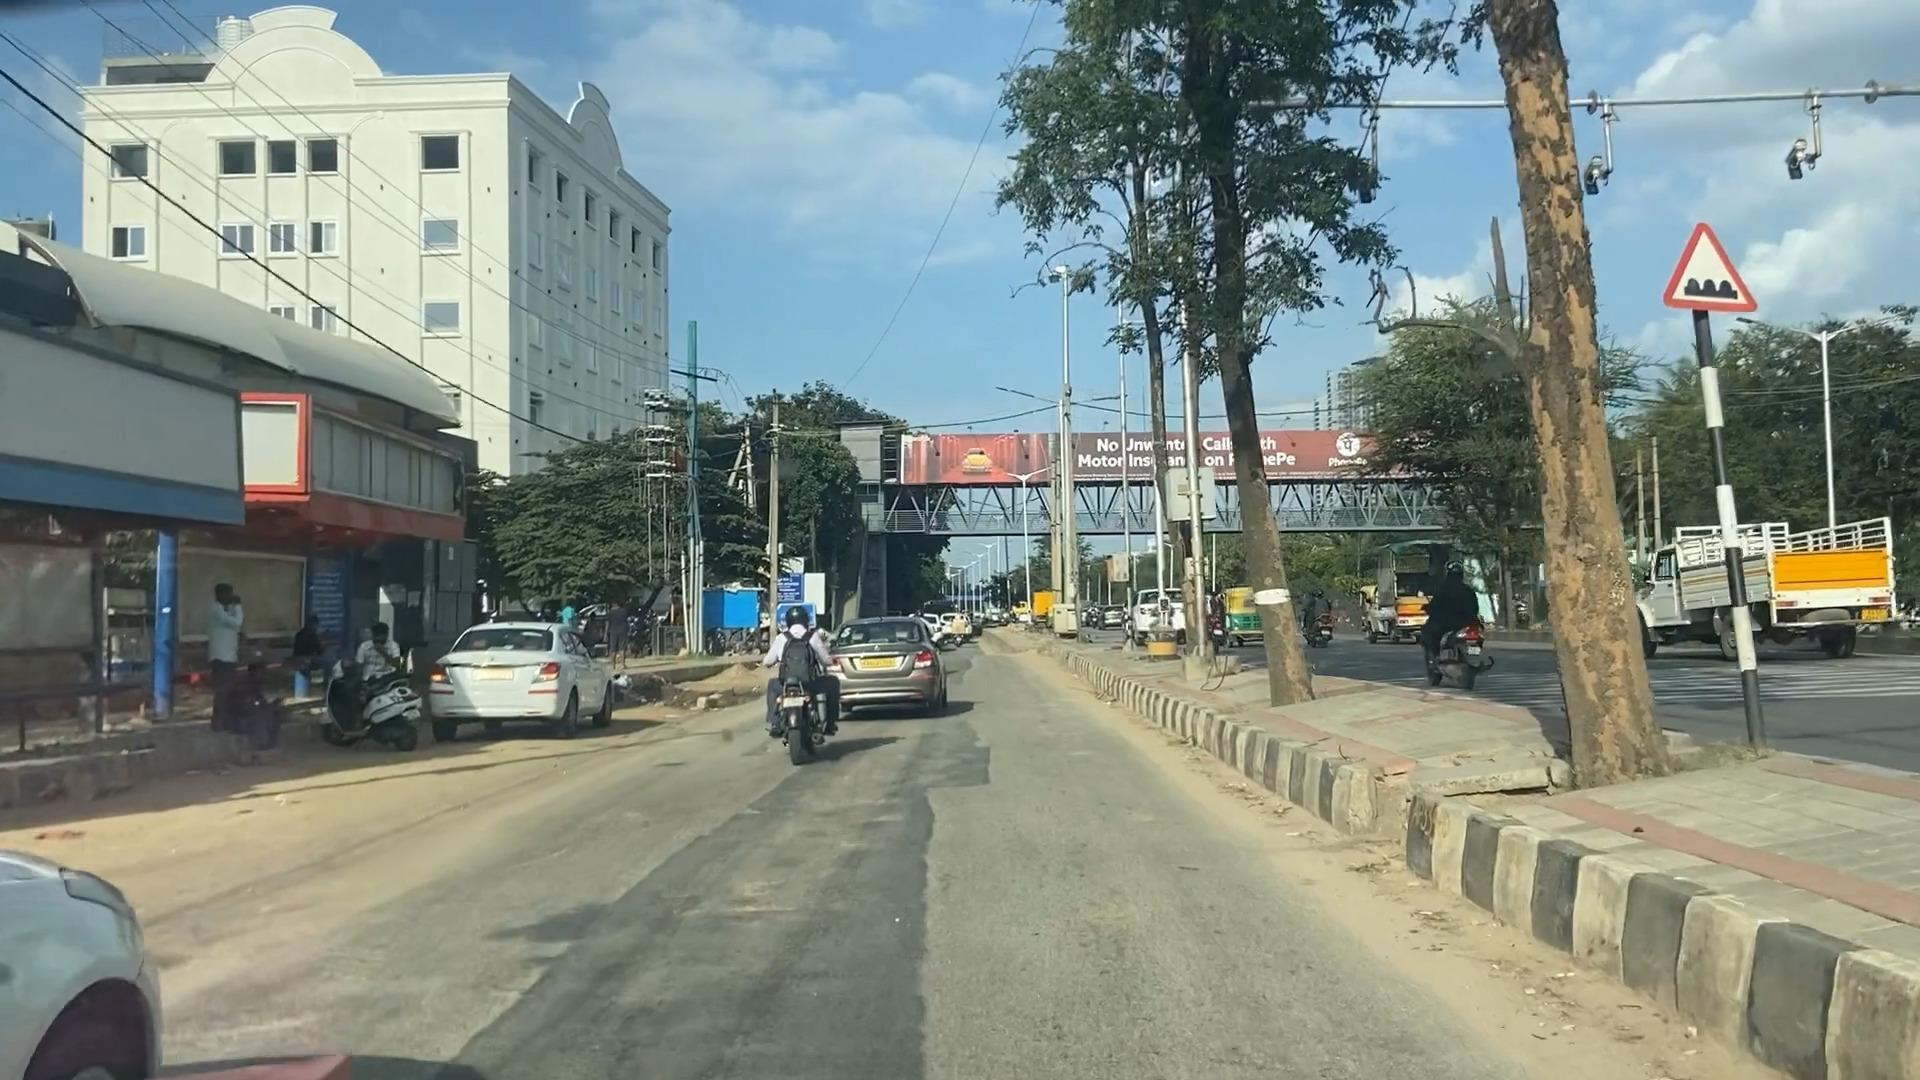LMV: (450, 628, 600, 738), (769, 612, 820, 762)
UnsurfacedRoad: (481, 877, 947, 1046), (658, 781, 965, 857)
